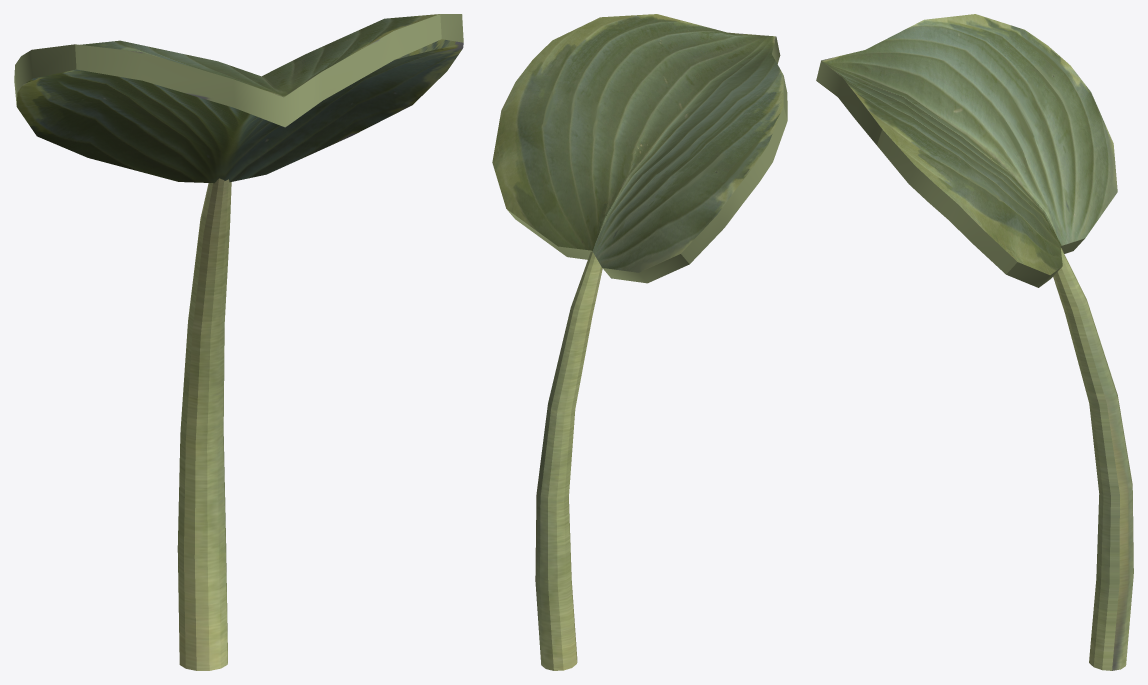
The model's file is Leave.fbx.
3 renders of one model, left to right at view 1: azimuth 30°, elevation 25°; view 2: azimuth 150°, elevation 25°; view 3: azimuth 270°, elevation 25°, orthographic. The views are drawn at different scales.
Visible parts, largest first — view 1: polySurface1065; view 2: polySurface1065; view 3: polySurface1065.
Part boxes in pixels (x1=…): polySurface1065: x1=14, y1=14, x2=463, y2=670; polySurface1065: x1=492, y1=14, x2=787, y2=670; polySurface1065: x1=816, y1=14, x2=1133, y2=670.
Size of the model in its own units: 0.1037 by 0.1903 by 0.0952.
